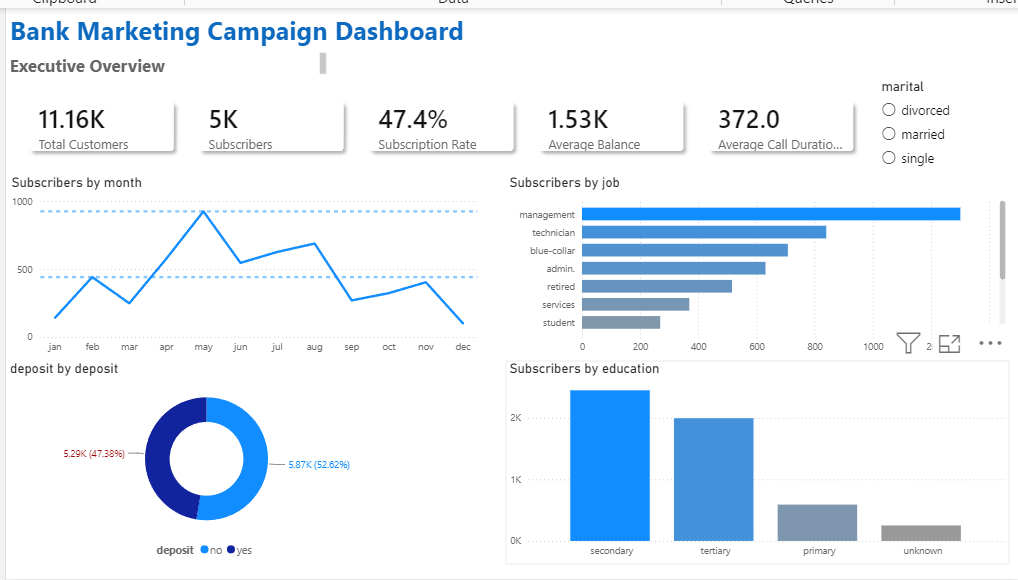

This screenshot's page, from the dashboard's own definition file:
{"tool":"powerbi","page":{"name":"Executive overview","canvas":[1280,720],"ordinal":0},"visuals":[{"type":"cardVisual","fields":{"Data":["bank.Total Customers","bank.Subscribers","bank.Subscription Rate","bank.Average Balance","bank.Average Call Duration"]},"box":[0,88.8,1098,120.9],"z":0},{"type":"donutChart","title":"deposit by deposit","fields":{"Category":["bank.deposit"],"Y":["CountNonNull(bank.deposit)"]},"box":[0,444.1,504.6,257],"z":1000},{"type":"clusteredBarChart","fields":{"Category":["bank.job"],"Y":["bank.Subscribers"]},"box":[629.3,209.8,635,234.3],"z":2000},{"type":"lineChart","fields":{"Y":["bank.Subscribers"],"Category":["MonthTable.month"]},"box":[1.9,209.8,597.2,234.3],"z":3000},{"type":"textbox","box":[0,0,946.8,71.8],"z":4000},{"type":"textbox","box":[0,51,408.2,37.8],"z":5000},{"type":"columnChart","fields":{"Category":["bank.education"],"Y":["bank.Subscribers"]},"box":[629,444,635,257],"z":6000},{"type":"listSlicer","fields":{"Values":["bank.marital"]},"box":[1098,88.8,166.3,120.9],"z":7000}]}

Visuals, with their boxes on the page's 1280x720 design canvas (x1, y1, x2, y2). These are canvas units, not pixel positions in the 1018x580 screenshot, which may show the page scaled, cropped or inside an application window:
cardVisual - bank.Total Customers x bank.Subscribers: Rect(0, 89, 1098, 210)
"deposit by deposit" donutChart: Rect(0, 444, 505, 701)
clusteredBarChart - bank.job x bank.Subscribers: Rect(629, 210, 1264, 444)
lineChart - bank.Subscribers x MonthTable.month: Rect(2, 210, 599, 444)
textbox: Rect(0, 0, 947, 72)
textbox: Rect(0, 51, 408, 89)
columnChart - bank.education x bank.Subscribers: Rect(629, 444, 1264, 701)
listSlicer - bank.marital: Rect(1098, 89, 1264, 210)
